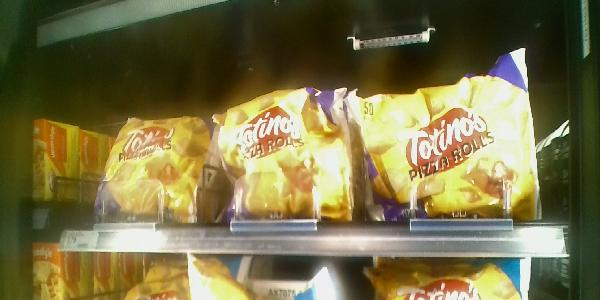icecream: (356, 47, 544, 221), (209, 82, 360, 228), (93, 116, 199, 226)
